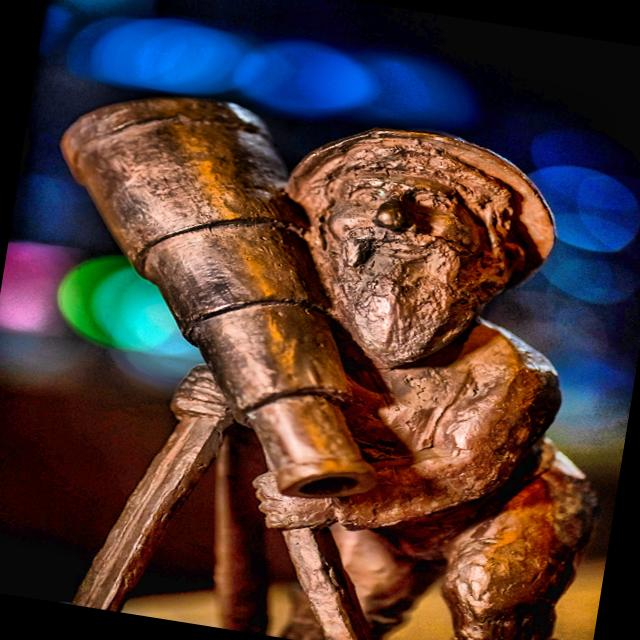Lunetyk: (60, 95, 598, 640)
